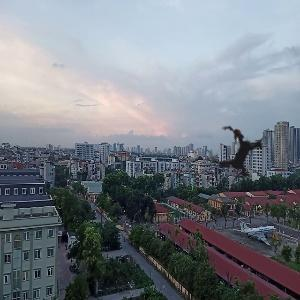drone: (189, 106, 291, 208)
